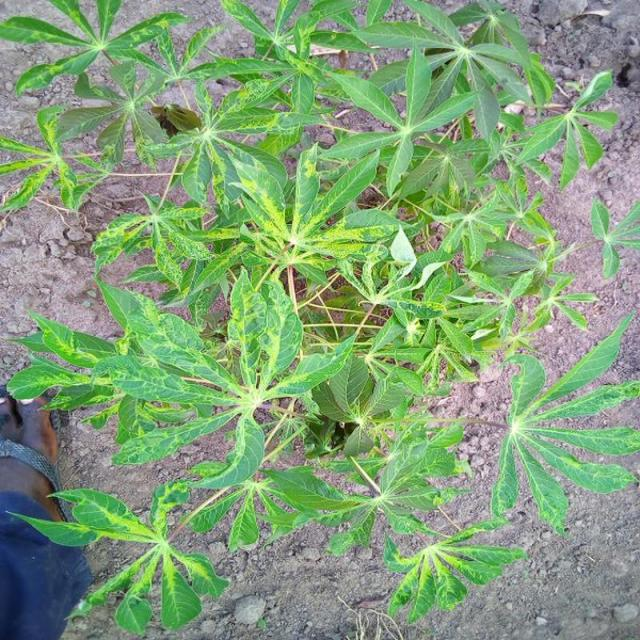cassava leaf: (1, 1, 636, 634)
